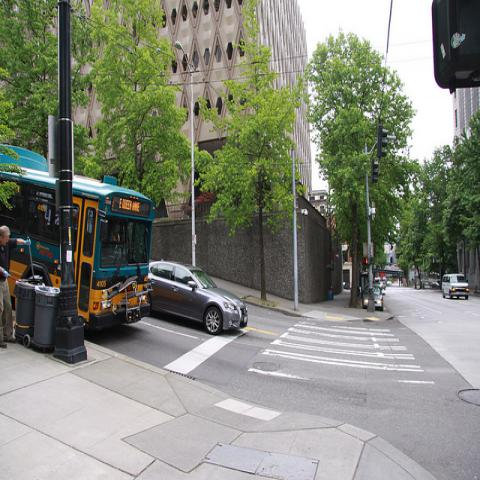bus: (3, 146, 156, 330)
car: (147, 258, 247, 335), (442, 274, 469, 300), (362, 285, 383, 312)
truck: (442, 274, 470, 300)
